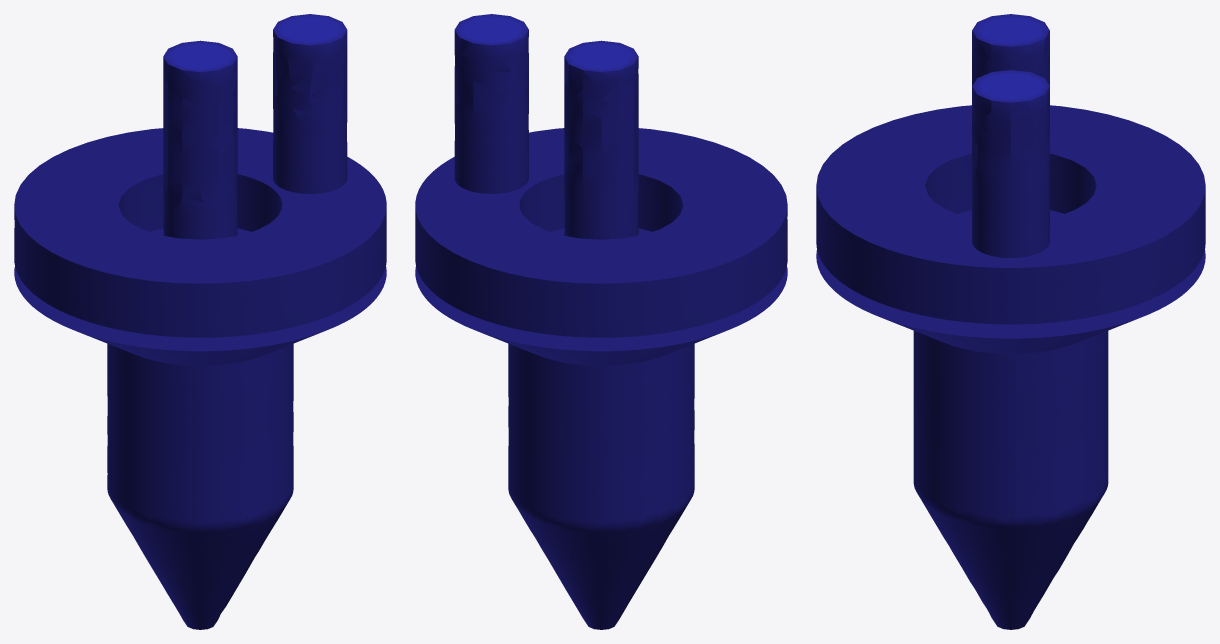
3 views of the same model, side by side, from view 1: azimuth 30°, elevation 25°; view 2: azimuth 150°, elevation 25°; view 3: azimuth 270°, elevation 25° (orthographic). The views are drawn at different scales.
Size of the model in its own units: 25 by 42 by 25.
1 material, 1 textured.
